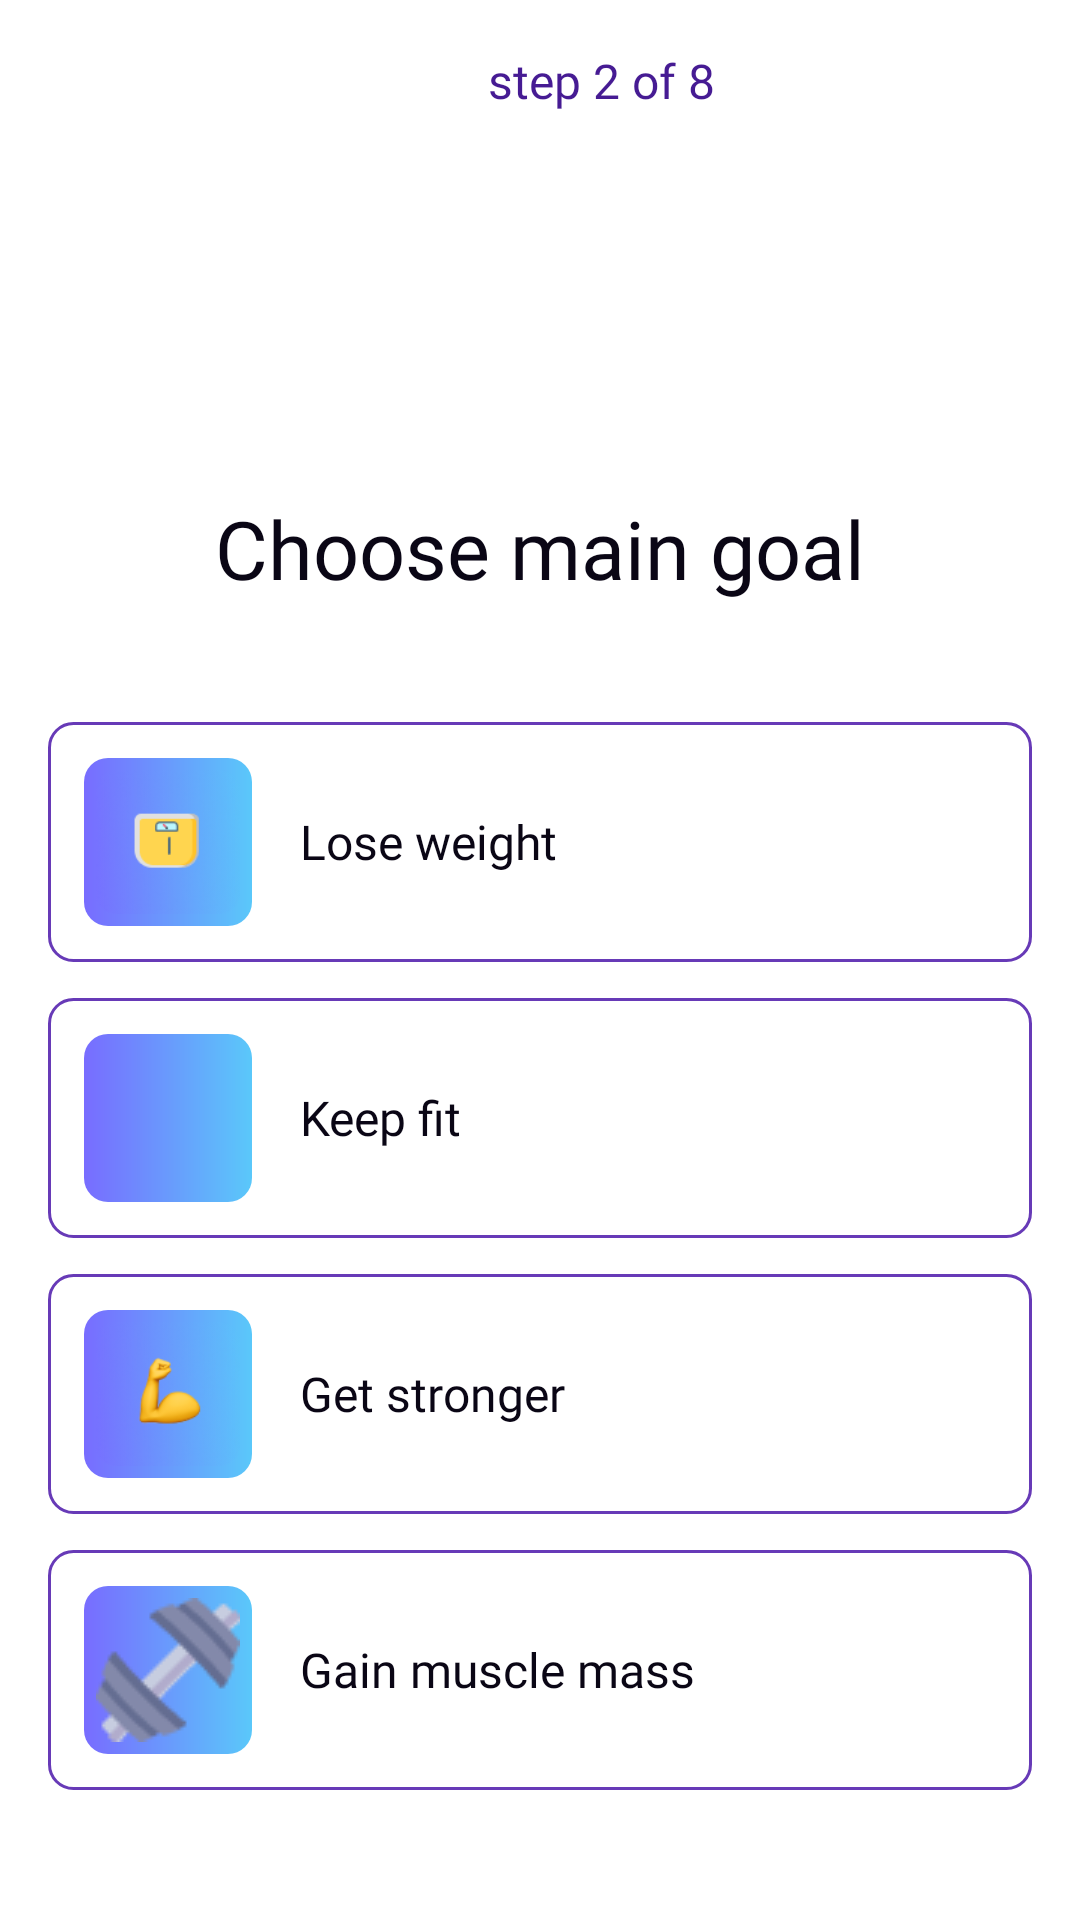

Icons on this 1080x1920 Android screen, each with the point to tap as (x,y):
loss weight: (168,842)
